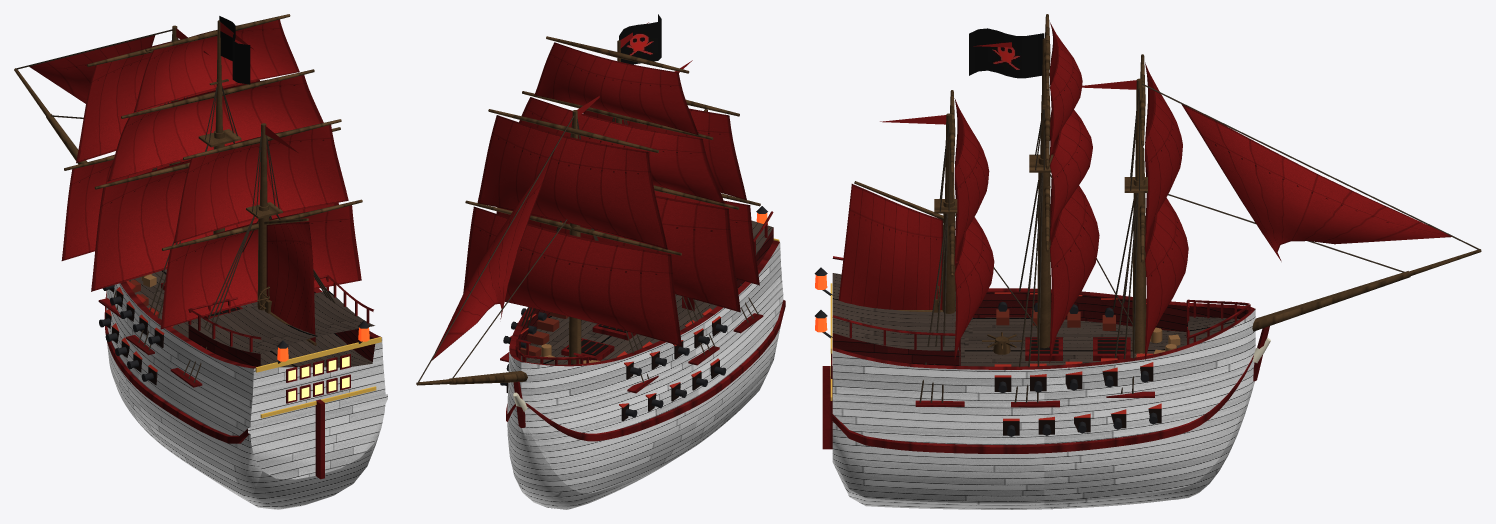
Rendered from dread_galleon.glb.
The picture shows the model from 3 angles, left to right: view 1: azimuth 30°, elevation 25°; view 2: azimuth 150°, elevation 25°; view 3: azimuth 270°, elevation 25°; orthographic projection. The views are drawn at different scales.
Visible parts, largest first — view 1: Hull, Sail2_1, Rigging, Sail2_0, Sail1_1, Sail1_0, Sail1_2, Sail0_1, Spanker, Sail0_0, Jib, Flag (+1 smaller); view 2: Hull, Sail0_0, Sail0_1, Sail1_2, Rigging, Sail1_0, Sail1_1, Jib, Sail2_1, Sail2_0, Guns0, Flag; view 3: Hull, Rigging, Jib, Spanker, Sail1_0, Sail0_0, Sail0_1, Sail2_0, Flag, Sail2_1, Sail1_1, Sail1_2 (+1 smaller).
Boxes of the visible parts, bbox=[...] form: Hull: bbox=[98, 269, 387, 509]; Sail2_1: bbox=[173, 124, 348, 243]; Rigging: bbox=[14, 14, 362, 382]; Sail2_0: bbox=[160, 205, 361, 329]; Sail1_1: bbox=[107, 75, 323, 181]; Sail1_0: bbox=[91, 160, 338, 291]; Sail1_2: bbox=[133, 19, 299, 112]; Sail0_1: bbox=[76, 39, 259, 163]; Spanker: bbox=[266, 222, 315, 345]; Sail0_0: bbox=[61, 154, 190, 260]; Jib: bbox=[29, 35, 155, 103]; Flag: bbox=[219, 16, 250, 84]; Hull: bbox=[500, 206, 785, 509]; Sail0_0: bbox=[463, 206, 681, 346]; Sail0_1: bbox=[477, 115, 667, 249]; Sail1_2: bbox=[534, 42, 698, 135]; Rigging: bbox=[416, 22, 760, 385]; Sail1_0: bbox=[496, 195, 740, 312]; Sail1_1: bbox=[519, 97, 724, 203]; Jib: bbox=[432, 150, 554, 360]; Sail2_1: bbox=[583, 108, 746, 200]; Sail2_0: bbox=[654, 190, 759, 285]; Guns0: bbox=[500, 308, 727, 417]; Flag: bbox=[619, 14, 661, 64]; Hull: bbox=[814, 256, 1270, 509]; Rigging: bbox=[854, 14, 1481, 402]; Jib: bbox=[1181, 104, 1451, 261]; Spanker: bbox=[838, 184, 942, 309]; Sail1_0: bbox=[1049, 175, 1099, 363]; Sail0_0: bbox=[1145, 193, 1188, 360]; Sail0_1: bbox=[1145, 62, 1182, 251]; Sail2_0: bbox=[954, 214, 994, 361]; Flag: bbox=[969, 28, 1044, 78]; Sail2_1: bbox=[954, 98, 989, 265]; Sail1_1: bbox=[1049, 110, 1092, 241]; Sail1_2: bbox=[1049, 22, 1082, 159].
Size of the model in its own units: 1.98 by 3.24 by 4.26.
Materials: 20 (8 with a texture image).
